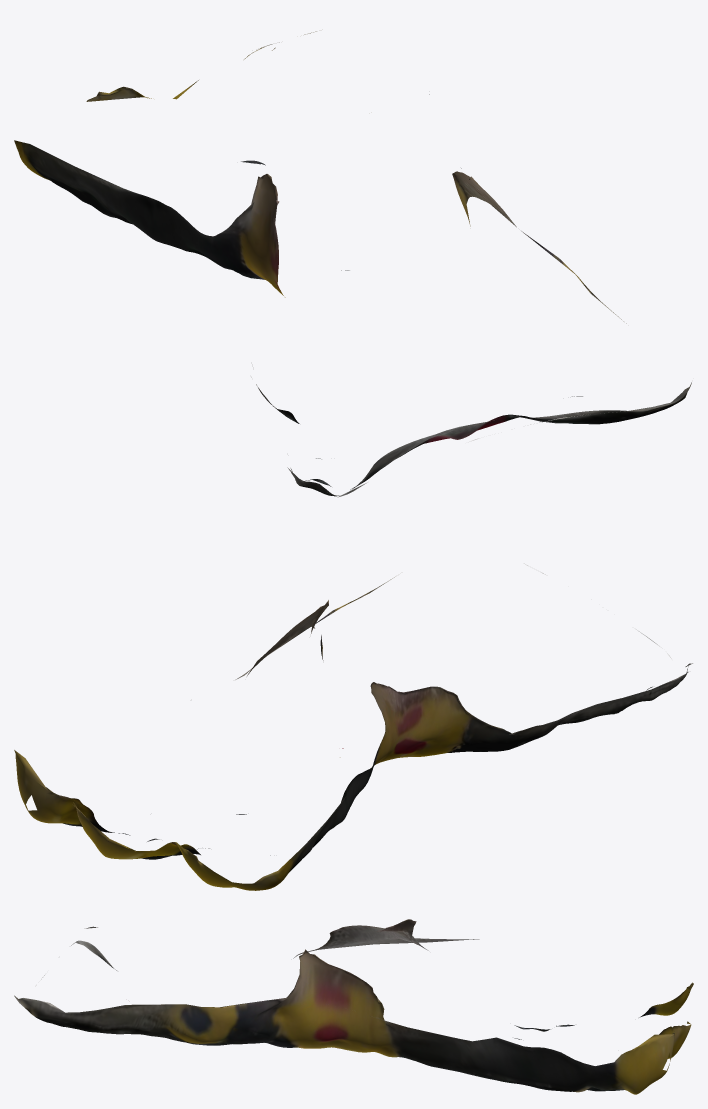
3 renders of one model, top to bottom at view 1: azimuth 30°, elevation 25°; view 2: azimuth 150°, elevation 25°; view 3: azimuth 270°, elevation 25°, orthographic. The views are drawn at different scales.
Size of the model in its own units: 0.4326 by 0.1387 by 0.7433.
Materials: 1 (1 with a texture image).
